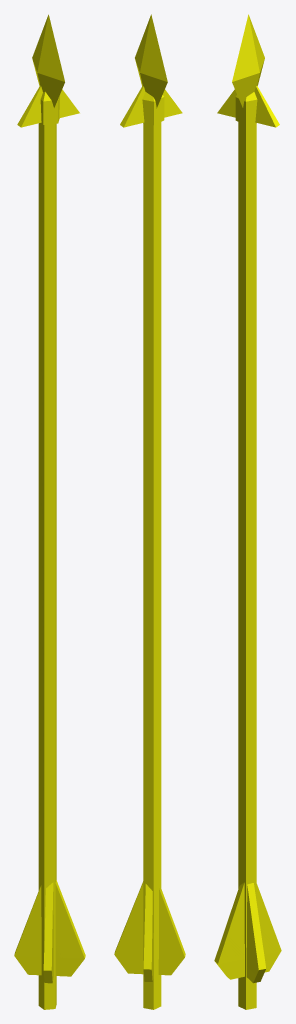
File: _arrow_c_4.glb
3 renders of one model, left to right at view 1: azimuth 30°, elevation 25°; view 2: azimuth 210°, elevation 25°; view 3: azimuth 330°, elevation 25°, orthographic.
Visible parts, largest first — view 1: arrow_c_4; view 2: arrow_c_4; view 3: arrow_c_4.
Part boxes in pixels (bbox=[...]): arrow_c_4: bbox=[14, 14, 85, 1009]; arrow_c_4: bbox=[114, 14, 185, 1009]; arrow_c_4: bbox=[214, 14, 281, 1009].
Size of the model in its own units: 1219 by 19535 by 1192.
